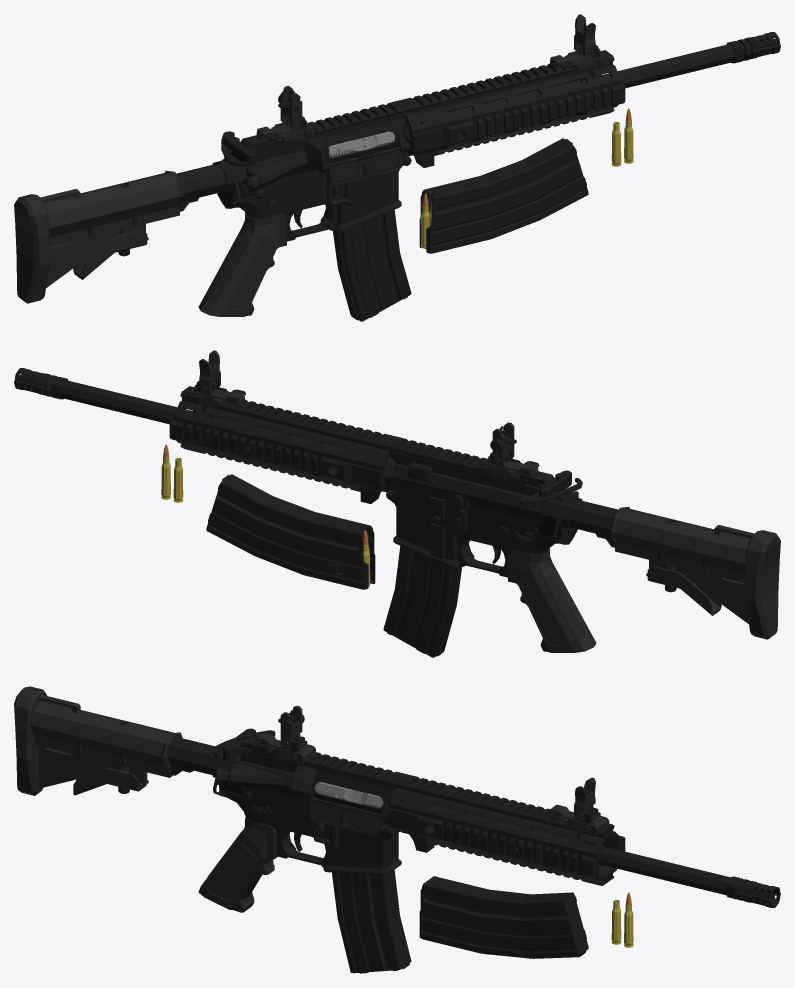
The model's file is low-poly_c8_iur.glb.
3 views of the same model, one above another, from view 1: azimuth 30°, elevation 25°; view 2: azimuth 150°, elevation 25°; view 3: azimuth 330°, elevation 25° (orthographic).
Visible parts, largest first — view 1: iur upper_0, iur stock_16, ar15 30rnd mag (steel)_8, iur lower_12, ar15 30rnd mag empty (steel)_7, iur grip_3, iur iron sights_17, iur 15,7in barrel_11, iur dust cover_4, iur flash hider_15, iur charging handle_14, iur bolt_6; view 2: iur upper_0, iur stock_16, ar15 30rnd mag (steel)_8, iur lower_12, ar15 30rnd mag empty (steel)_7, iur grip_3, iur iron sights_17, iur 15,7in barrel_11, iur charging handle_14, iur flash hider_15; view 3: iur upper_0, iur stock_16, ar15 30rnd mag (steel)_8, iur lower_12, ar15 30rnd mag empty (steel)_7, iur grip_3, iur 15,7in barrel_11, iur iron sights_17, iur dust cover_4, iur flash hider_15, iur bolt_6, iur charging handle_14.
Part boxes in pixels (x1,y1,x2,y2): iur upper_0: (238,50,625,193); iur stock_16: (14,170,184,303); ar15 30rnd mag (steel)_8: (419,138,588,253); iur lower_12: (123,154,411,241); ar15 30rnd mag empty (steel)_7: (332,210,411,321); iur grip_3: (198,212,286,316); iur iron sights_17: (256,14,608,142); iur 15,7in barrel_11: (447,44,735,117); iur dust cover_4: (329,146,402,184); iur flash hider_15: (726,32,780,63); iur charging handle_14: (221,131,260,166); iur bolt_6: (328,131,395,157); iur upper_0: (169,386,578,523); iur stock_16: (610,506,780,639); ar15 30rnd mag (steel)_8: (206,474,375,589); iur lower_12: (386,490,671,577); ar15 30rnd mag empty (steel)_7: (383,546,462,657); iur grip_3: (508,548,596,652); iur iron sights_17: (185,350,539,478); iur 15,7in barrel_11: (59,380,347,453); iur charging handle_14: (519,470,582,504); iur flash hider_15: (14,368,68,399); iur upper_0: (216,736,625,885); iur stock_16: (14,686,182,795); ar15 30rnd mag (steel)_8: (419,876,588,958); iur lower_12: (120,724,401,875); ar15 30rnd mag empty (steel)_7: (332,870,411,973); iur grip_3: (198,817,277,912); iur 15,7in barrel_11: (430,804,730,895); iur iron sights_17: (255,705,609,835); iur dust cover_4: (309,797,382,835); iur flash hider_15: (726,876,780,907); iur bolt_6: (315,782,383,808); iur charging handle_14: (212,728,275,760).
Bounding box in the file's own units: 8.49 × 2.63 × 0.8299.
